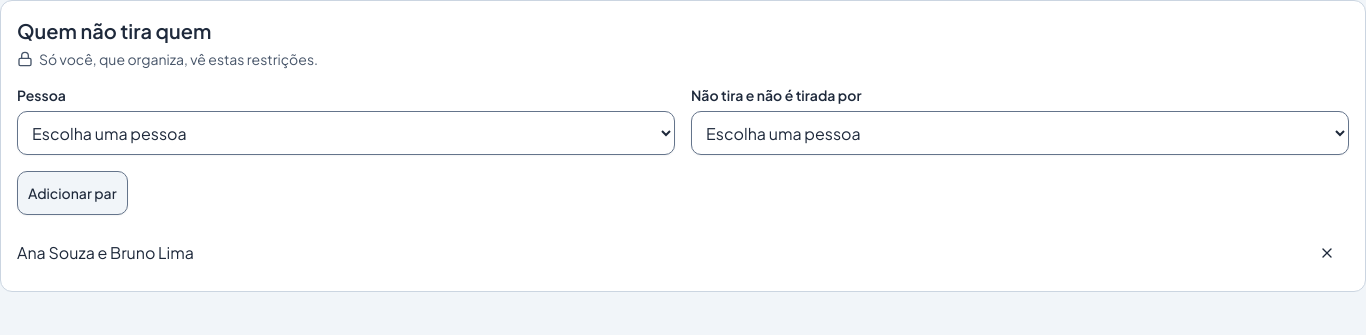
Test: ExclusionEditor › mostra Escolha duas pessoas diferentes. sem enviar
The image size is (1366, 335).
Select "Carla Dias" in the dropdown labelled "Pessoa" at coordinates (346, 133), box top-left (17, 111), bottom-right (675, 155)
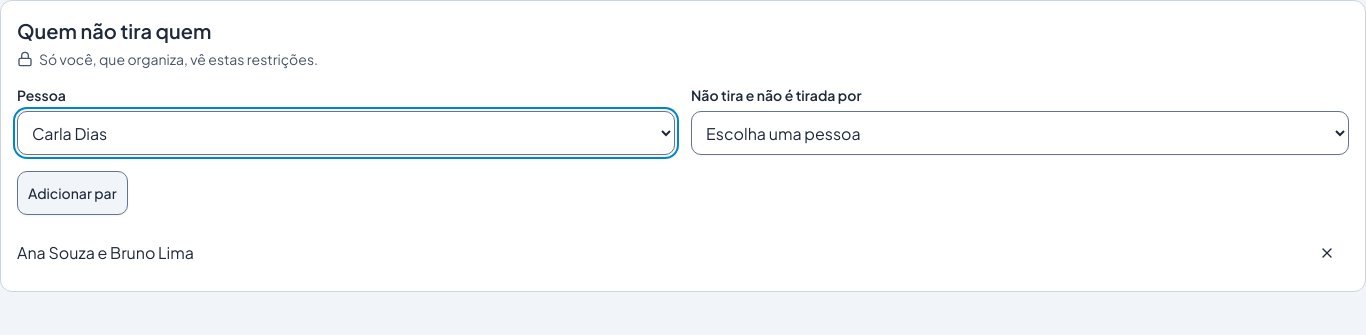
Select "Carla Dias" in the dropdown labelled "Não tira e não é tirada por" at coordinates (1020, 133), box top-left (691, 111), bottom-right (1349, 155)
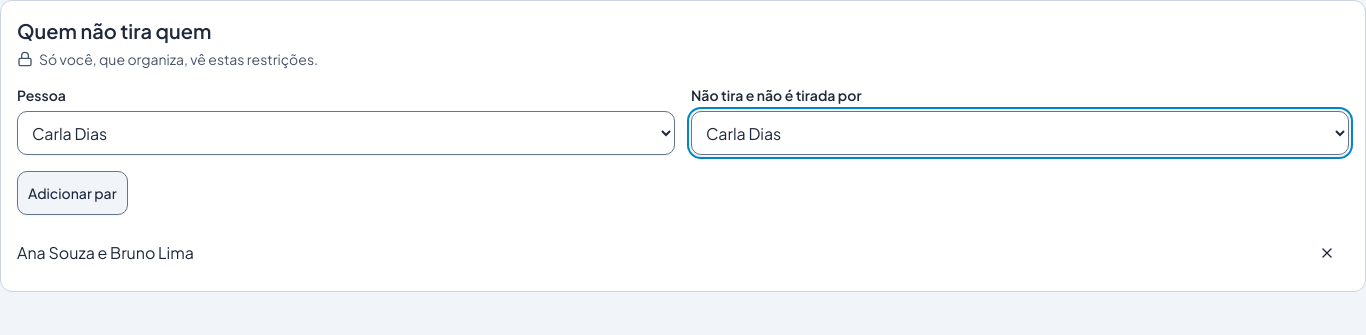
Click the button "Adicionar par" at coordinates (72, 193), box top-left (17, 171), bottom-right (128, 215)
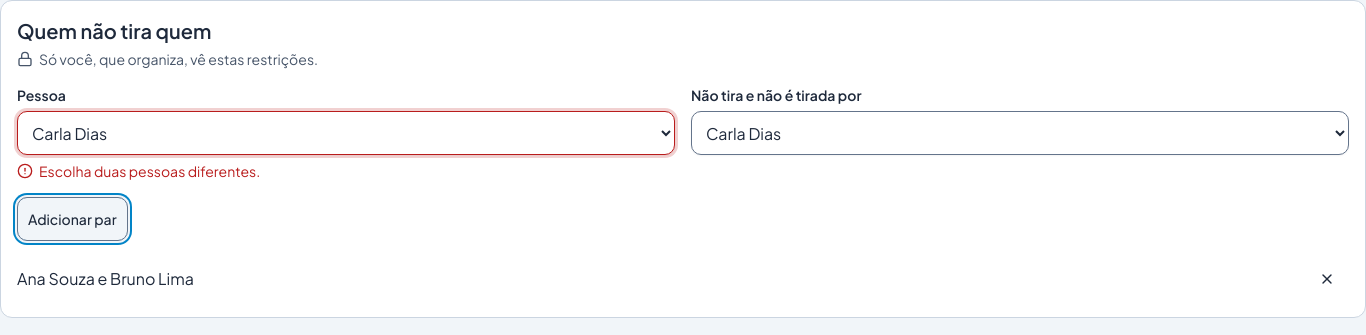
Check: the text "Escolha duas pessoas diferentes." is shown, box top-left (17, 162), bottom-right (260, 180)
